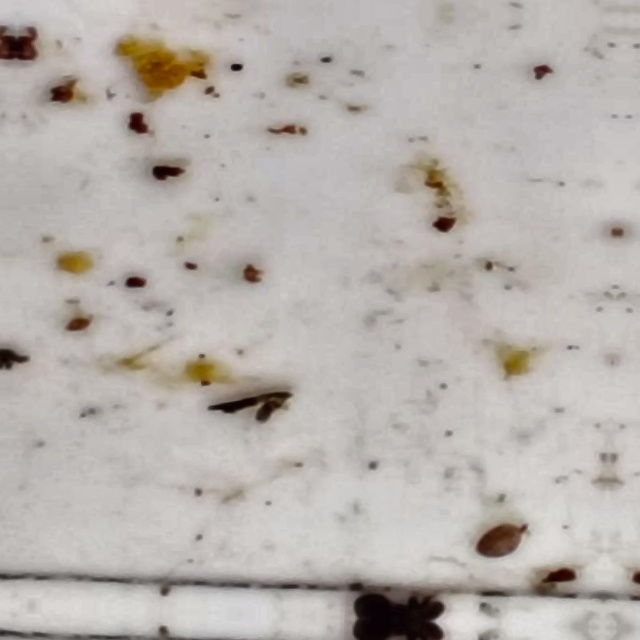varroa: (352, 589, 446, 621)
